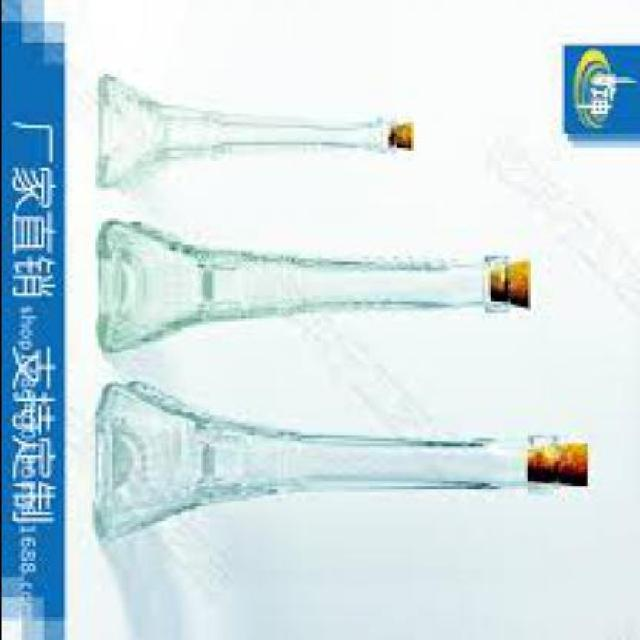glass: (94, 382, 560, 542), (103, 220, 515, 351), (100, 69, 392, 186)
